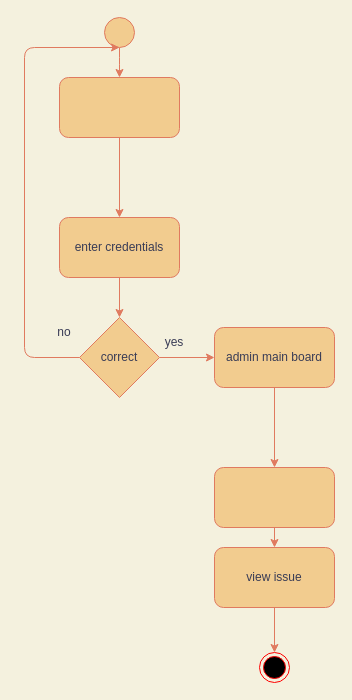
Image size: 352x700. Some labels were removed from this diagram. Each missing label, with the centre of its shape:
"access bug report" belongs at pixel 274 497.
"login page" belongs at pixel 119 107.
